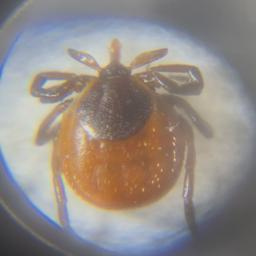Ixodes scapularis: (30, 39, 214, 239)
